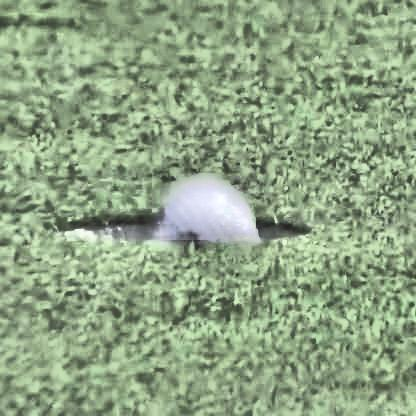golfball: (153, 190, 261, 260)
